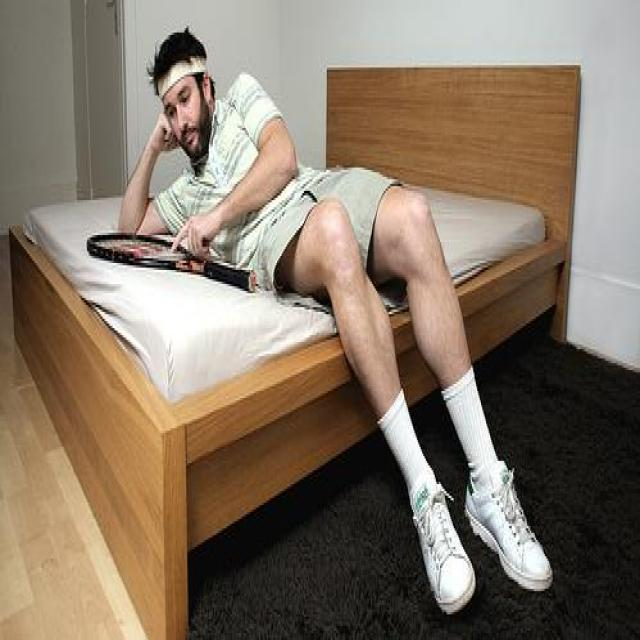bed: (8, 60, 581, 638)
